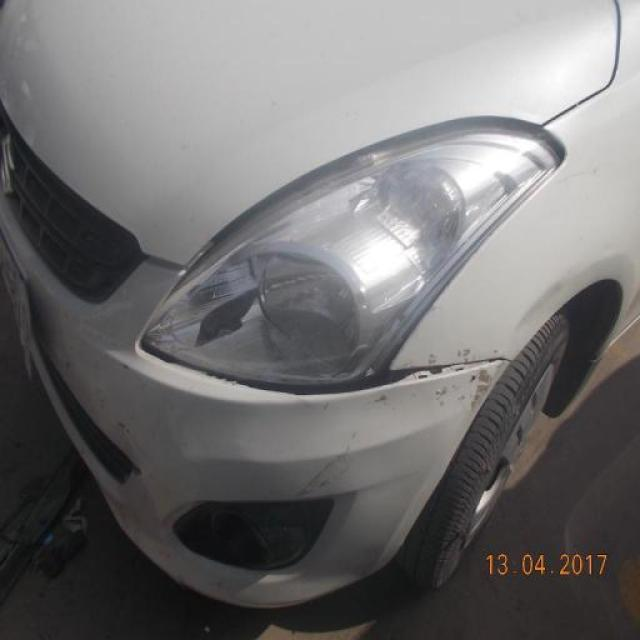misalignment: (150, 345, 513, 406)
scratch: (418, 340, 499, 424), (290, 422, 363, 498)
